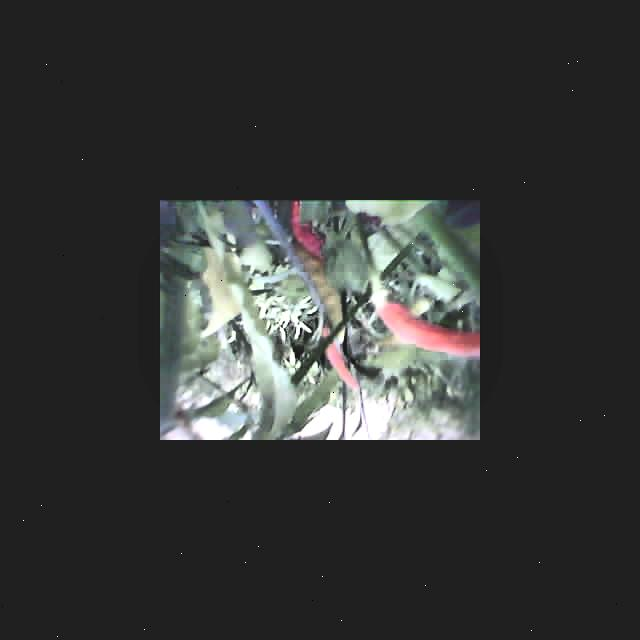Cabai: (380, 296, 480, 362), (291, 200, 338, 260), (323, 328, 360, 388)
